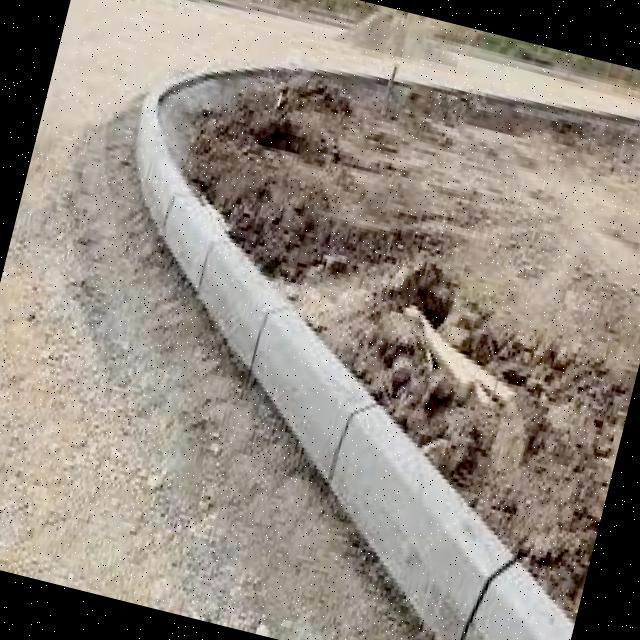curb: (305, 399, 526, 613), (227, 320, 395, 492), (159, 212, 304, 359), (390, 556, 579, 640), (115, 110, 218, 235)
